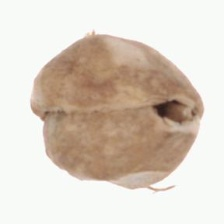L1: (147, 90, 204, 131)
L2: (29, 34, 204, 192)
